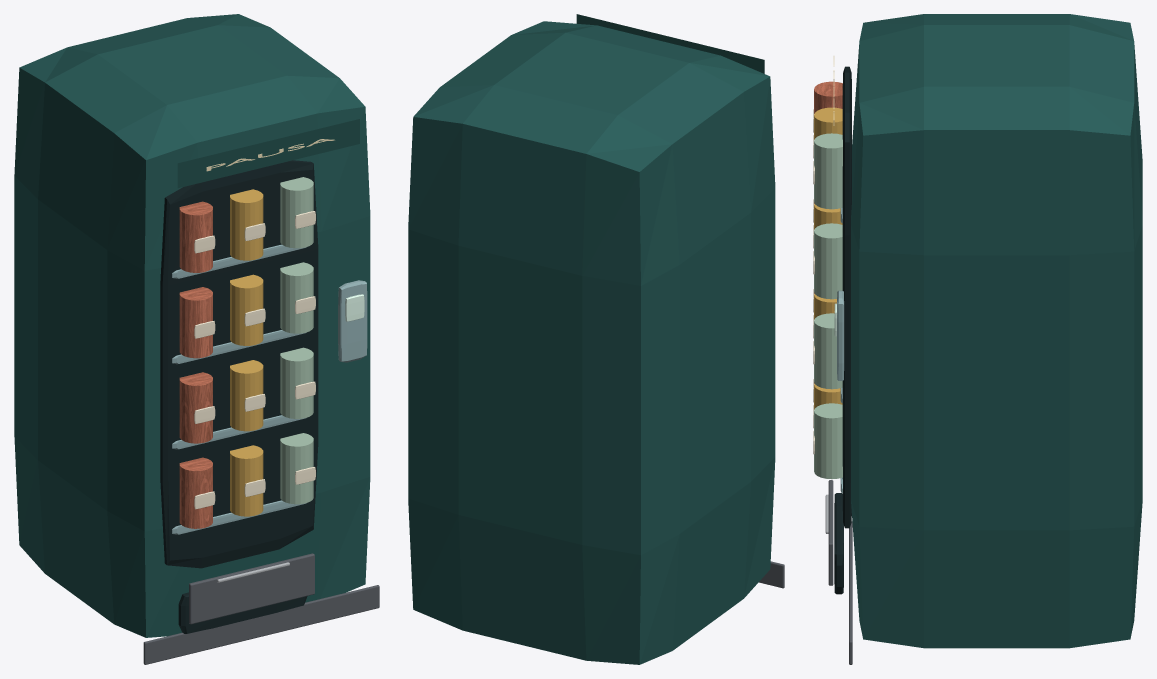
File: hiperreal-hd.glb
3 renders of one model, left to right at view 1: azimuth 30°, elevation 25°; view 2: azimuth 150°, elevation 25°; view 3: azimuth 270°, elevation 25°, orthographic. The views are drawn at different scales.
Parts seen in each view (by area): view 1: Native component 0, Native component 1, Native component 10, Native component 30, Native component 26, Hiperreal zócalo, Hiperreal trampilla de recogida, Native component 5, Native component 4, Native component 14; view 2: Native component 0, Native component 4; view 3: Native component 0, Native component 30, Native component 1, Native component 26, Native component 5, Native component 10, Hiperreal trampilla de recogida, Hiperreal zócalo.
Boxes of the visible parts, box(x1,y1,x2,y2) form: Native component 0: box(14, 14, 370, 637); Native component 1: box(160, 160, 318, 633); Native component 10: box(179, 201, 212, 528); Native component 30: box(280, 177, 313, 504); Native component 26: box(230, 189, 263, 516); Hiperreal zócalo: box(143, 585, 379, 664); Hiperreal trampilla de recogida: box(189, 553, 314, 624); Native component 5: box(172, 244, 367, 534); Native component 4: box(177, 119, 359, 188); Native component 14: box(194, 211, 315, 509); Native component 0: box(408, 21, 775, 664); Native component 4: box(576, 14, 764, 73); Native component 0: box(851, 14, 1142, 648); Native component 30: box(814, 133, 842, 479); Native component 1: box(834, 66, 851, 594); Native component 26: box(814, 107, 842, 409); Native component 5: box(837, 208, 844, 492); Native component 10: box(814, 81, 842, 383); Hiperreal trampilla de recogida: box(828, 480, 833, 585); Hiperreal zócalo: box(849, 521, 852, 664).
Bounding box in the file's own units: 1 × 2.08 × 1.13.
12 materials, 1 textured.
